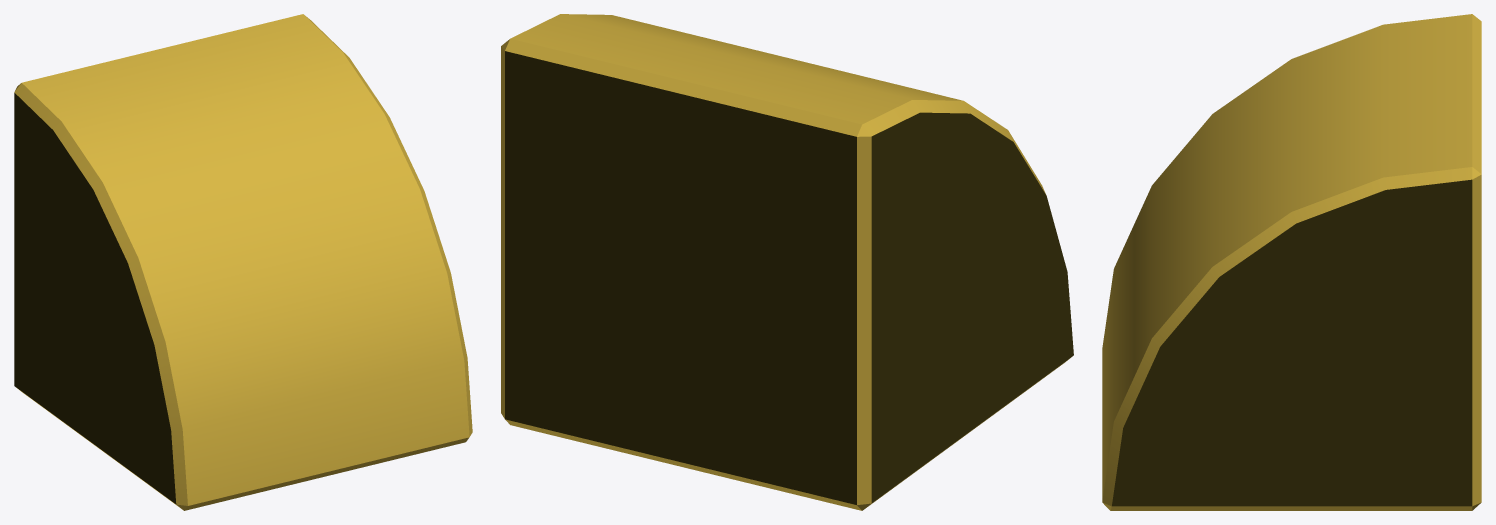
File: VeryPokat.fbx
3 renders of one model, left to right at view 1: azimuth 30°, elevation 25°; view 2: azimuth 150°, elevation 25°; view 3: azimuth 270°, elevation 25°, orthographic. The views are drawn at different scales.
Visible parts, largest first — view 1: Cube; view 2: Cube; view 3: Cube.
Boxes of the visible parts, x1=… form: Cube: x1=14, y1=14, x2=472, y2=510; Cube: x1=501, y1=14, x2=1073, y2=510; Cube: x1=1102, y1=14, x2=1481, y2=510.
Bounding box in the file's own units: 2 × 1.99 × 1.99.
